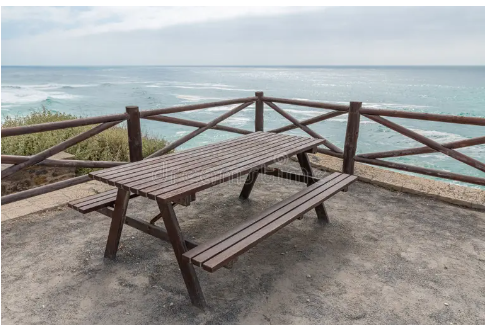obstacle: (60, 127, 362, 284)
